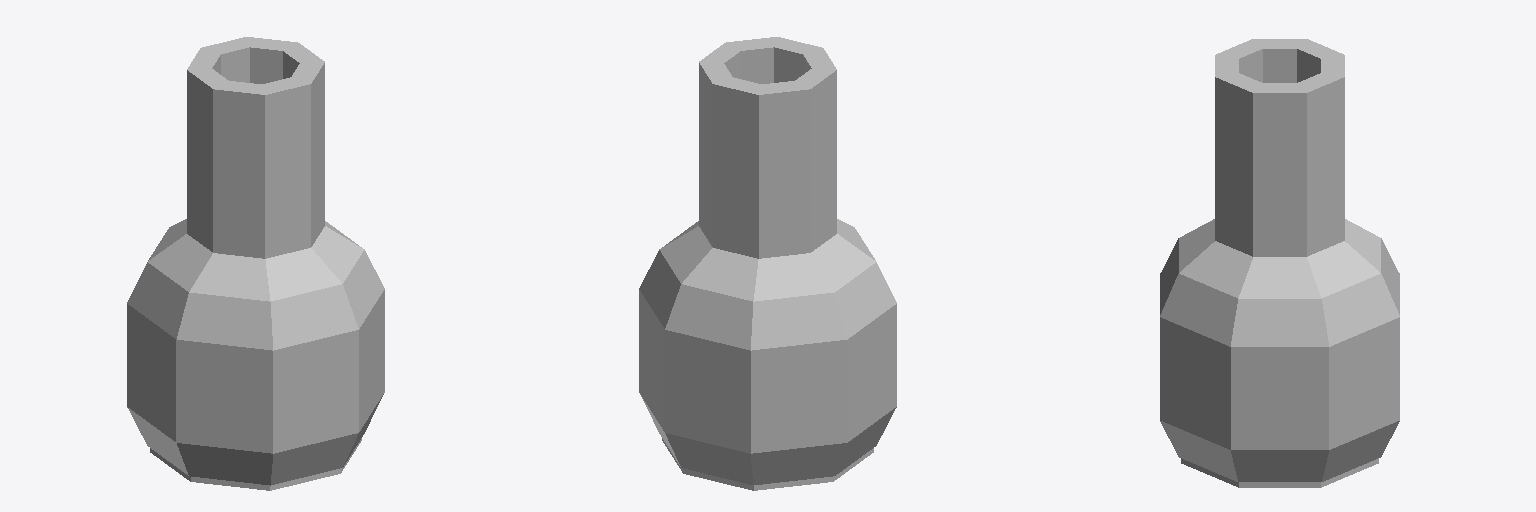
File: bottom.obj
The picture shows the model from 3 angles: view 1: azimuth 30°, elevation 25°; view 2: azimuth 150°, elevation 25°; view 3: azimuth 270°, elevation 25°; orthographic projection.
Parts seen in each view (by area): view 1: Cube.034; view 2: Cube.034; view 3: Cube.034.
Part boxes in pixels (x1,y1,x2,y2): Cube.034: (127,37,384,490); Cube.034: (639,37,896,490); Cube.034: (1160,39,1399,487).
Size of the model in its own units: 1.03 by 1.8 by 1.03.